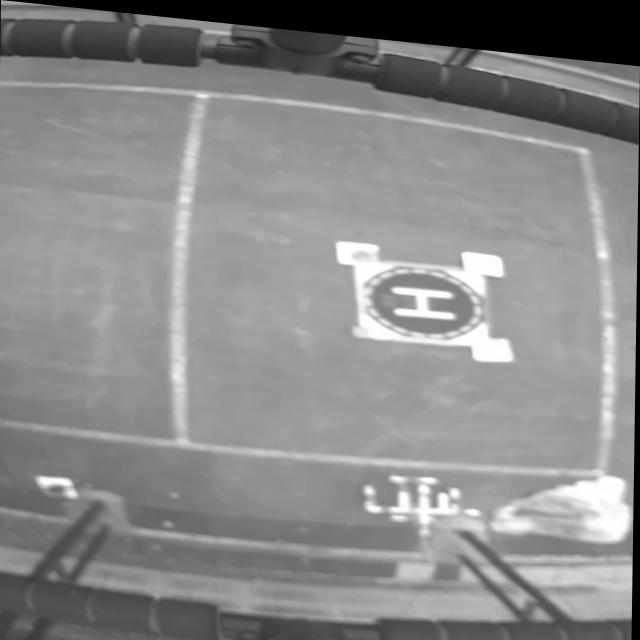Helipad: (391, 277, 455, 311)
